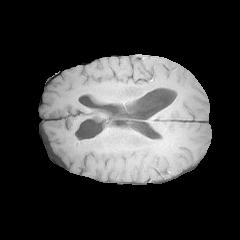glioma: (73, 108, 111, 149)
